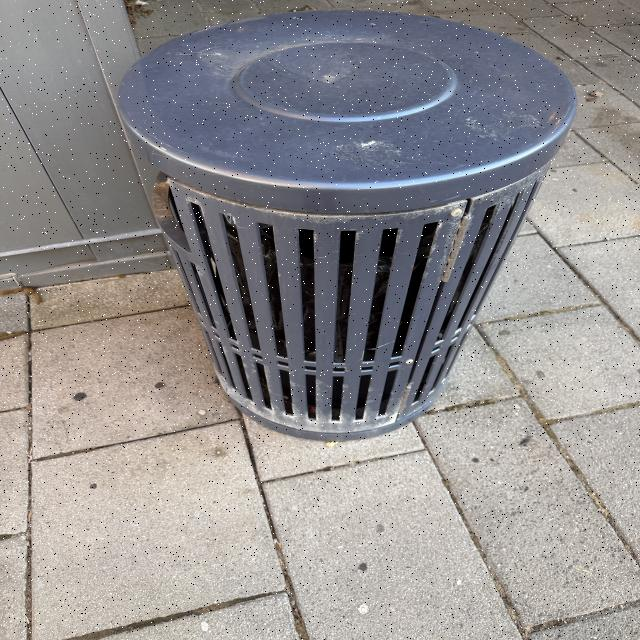Dustbin: (117, 12, 574, 444)
